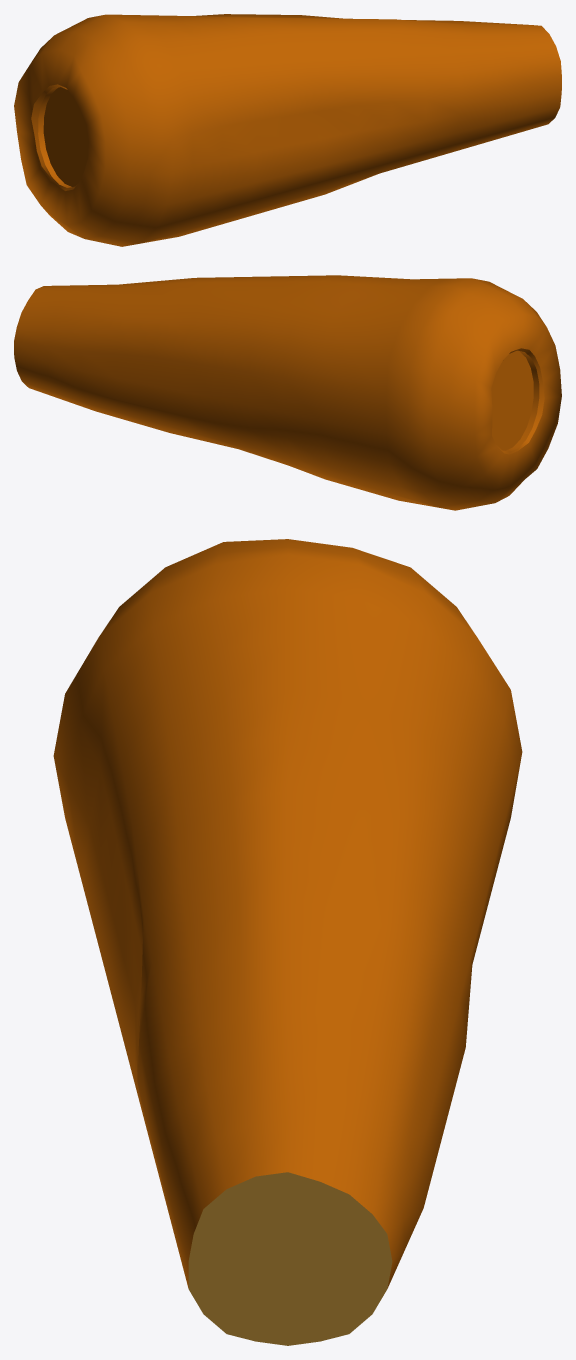
File: mesh_Carrot_Stage05.fbx
3 views of the same model, one above another, from view 1: azimuth 30°, elevation 25°; view 2: azimuth 150°, elevation 25°; view 3: azimuth 270°, elevation 25° (orthographic). The views are drawn at different scales.
Visible parts, largest first — view 1: mesh_Carrot_Stage05; view 2: mesh_Carrot_Stage05; view 3: mesh_Carrot_Stage05.
Boxes of the visible parts, box(x1,y1,x2,y2) form: mesh_Carrot_Stage05: box(14, 14, 561, 246); mesh_Carrot_Stage05: box(14, 275, 561, 510); mesh_Carrot_Stage05: box(53, 539, 522, 1345).
Size of the model in its own units: 0.123 by 0.0519 by 0.051.
